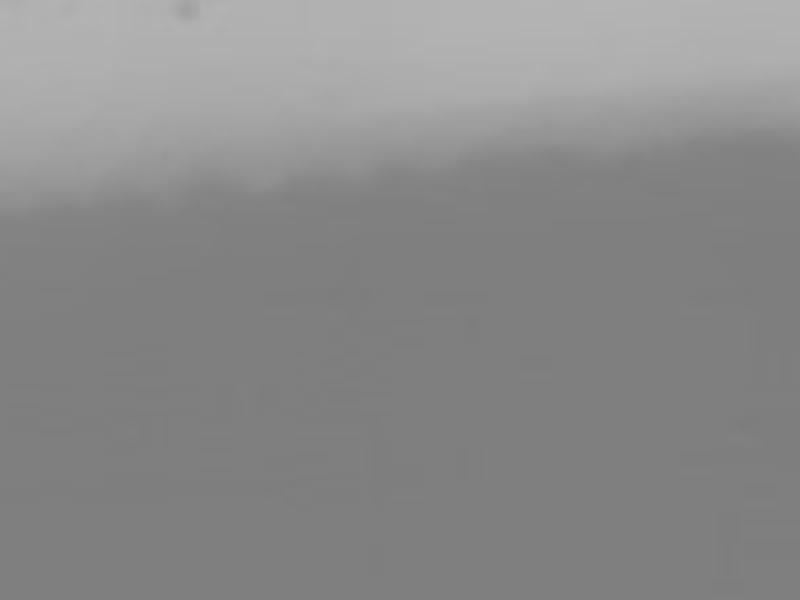defect: (170, 1, 198, 25)
